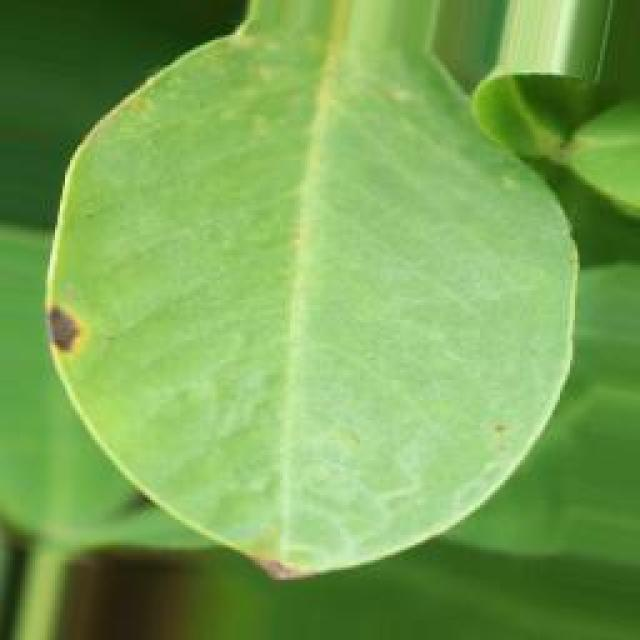Early_leaf_spot: (30, 286, 98, 392), (230, 537, 298, 592)
